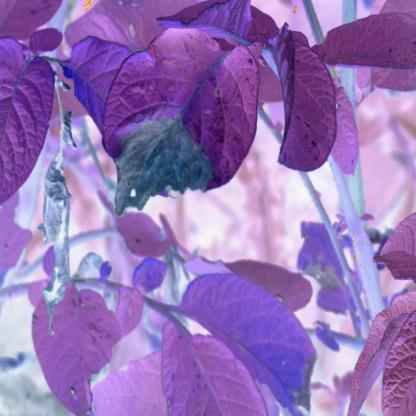Potato leaf early blight: (102, 27, 262, 215), (179, 272, 327, 415), (292, 217, 365, 319)
